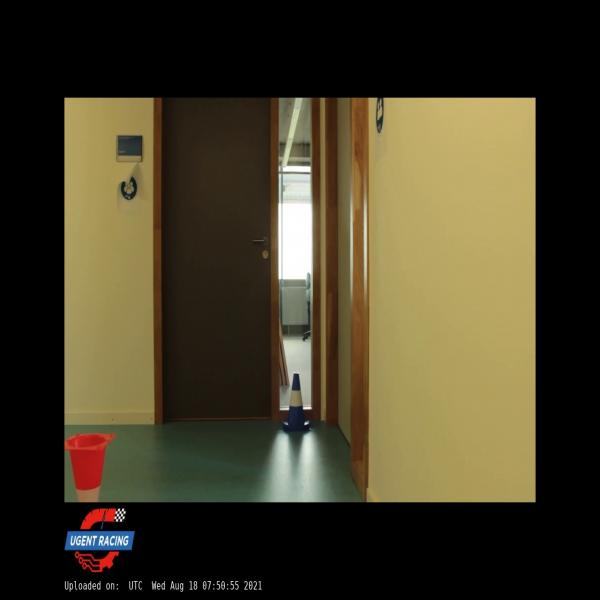blue_cone: (281, 372, 312, 434)
